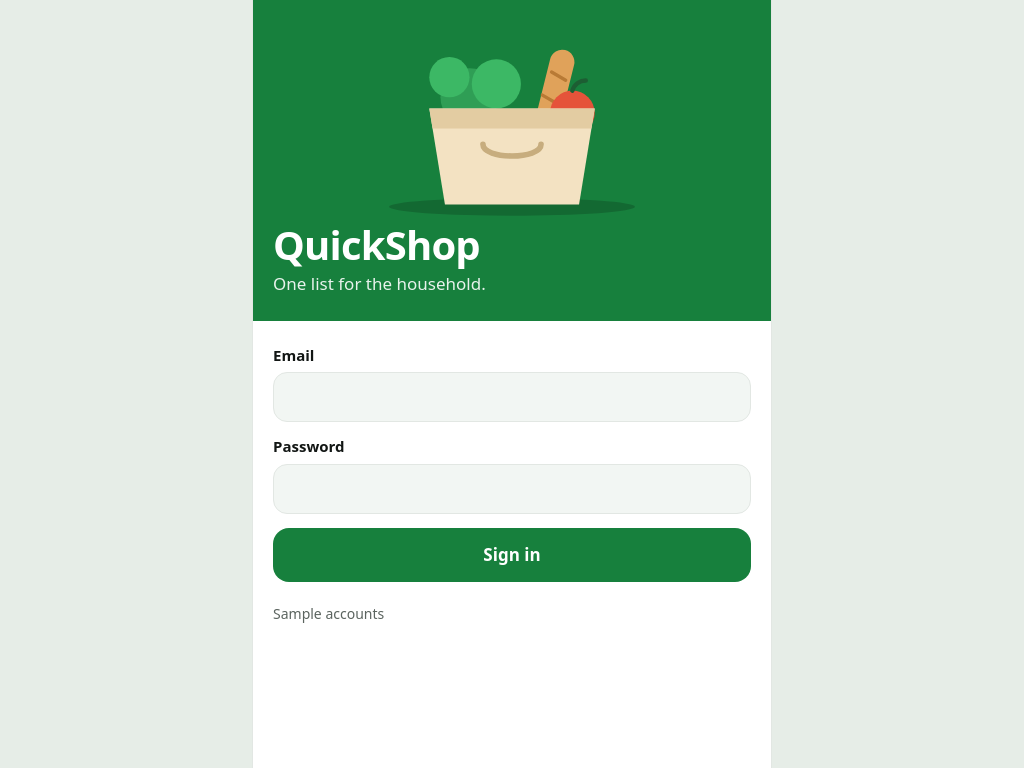
quick add › offers to create something new, and puts it on the list
Type "doug@example.com" into the field labelled "Email" at (512, 397), box [273,372,751,422]
Type "doug" into the password field labelled "Password" at (512, 489), box [273,464,751,514]
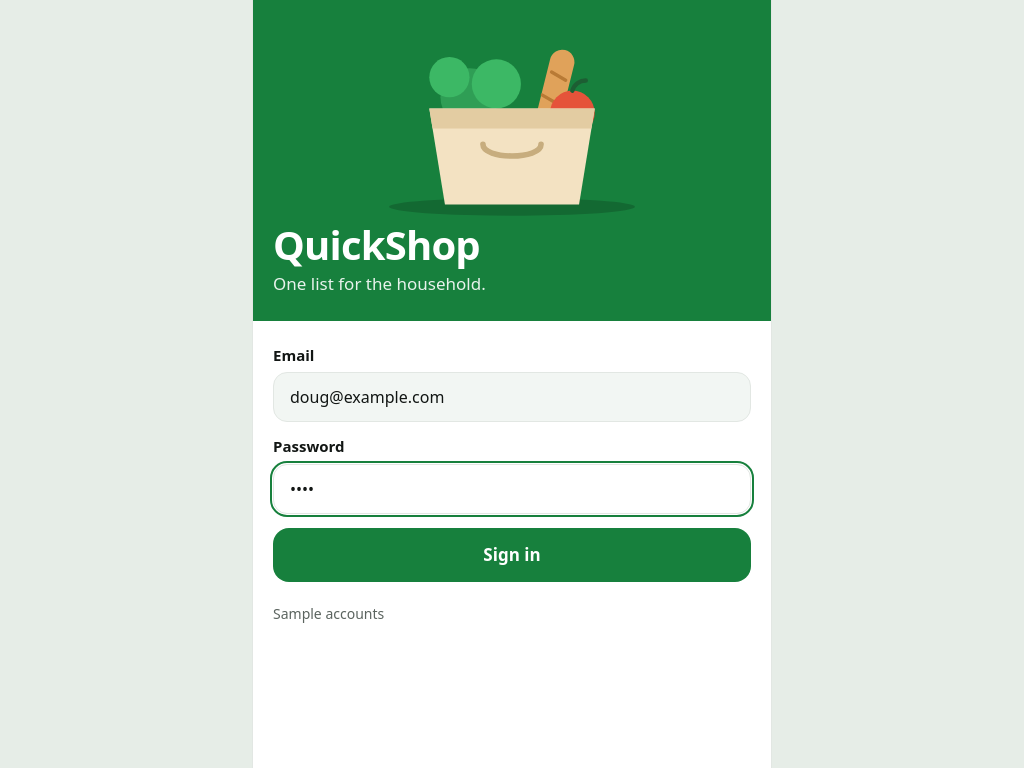
Click the button "Sign in" at (512, 555), box [273,528,751,582]
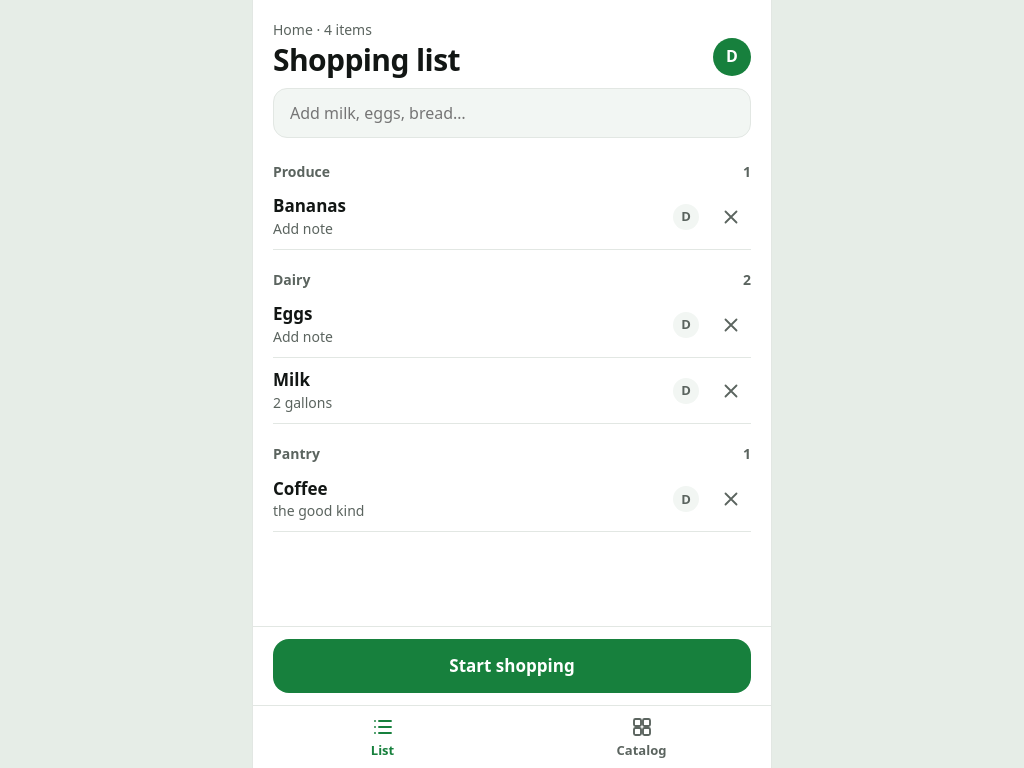
Now the heading "Shopping list" is shown, box [273,44,460,76]
Type "oat  milk" into the field named "Add to the list" at (512, 113), box [273,88,751,138]
Then press Enter
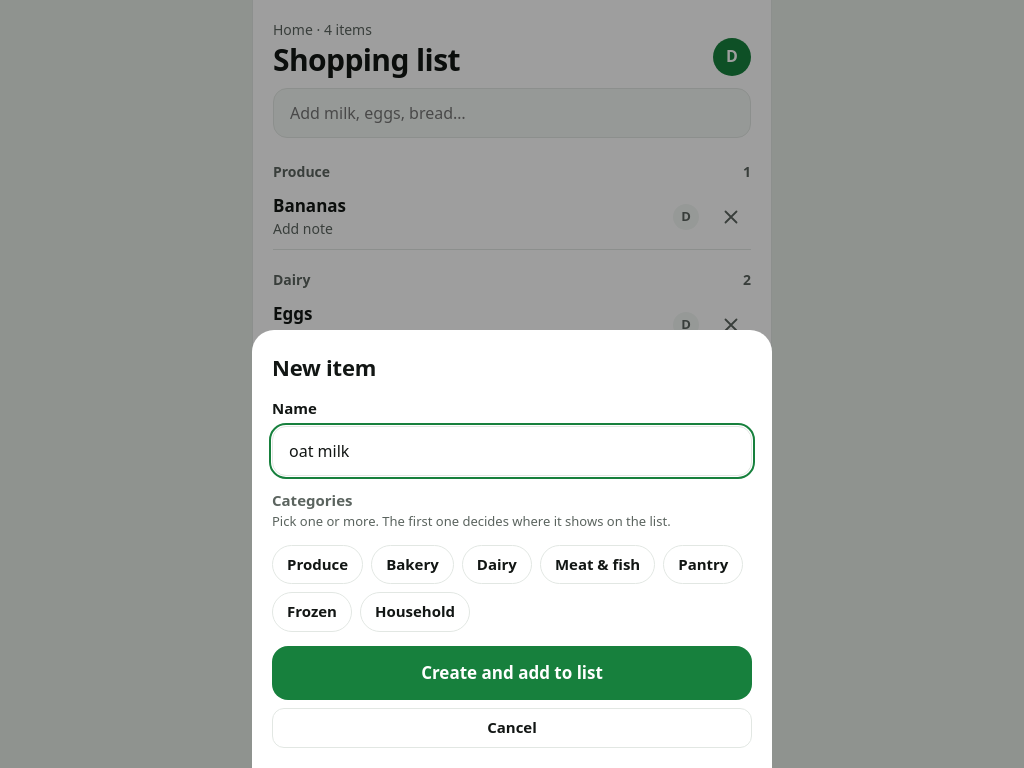
Now the field labelled "Name" holds "oat milk", box [272,426,752,476]
Click the button "Dairy" at (497, 564), box [462,544,532,584]
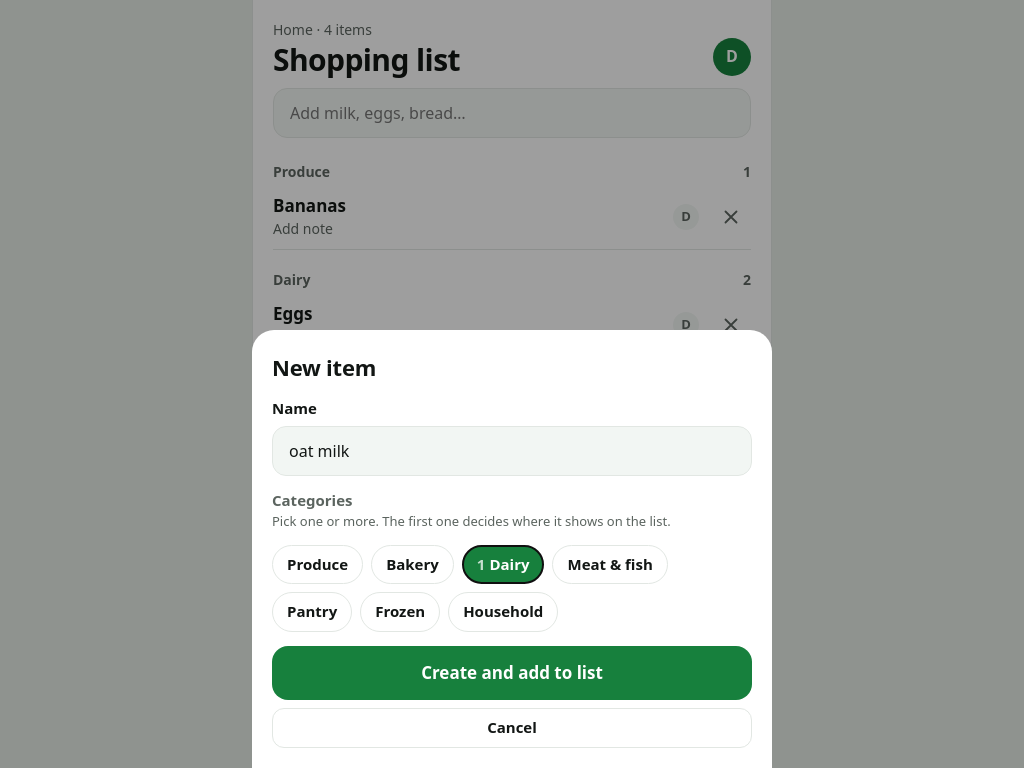
Click the button "Pantry" at (312, 612), box [272,592,352,632]
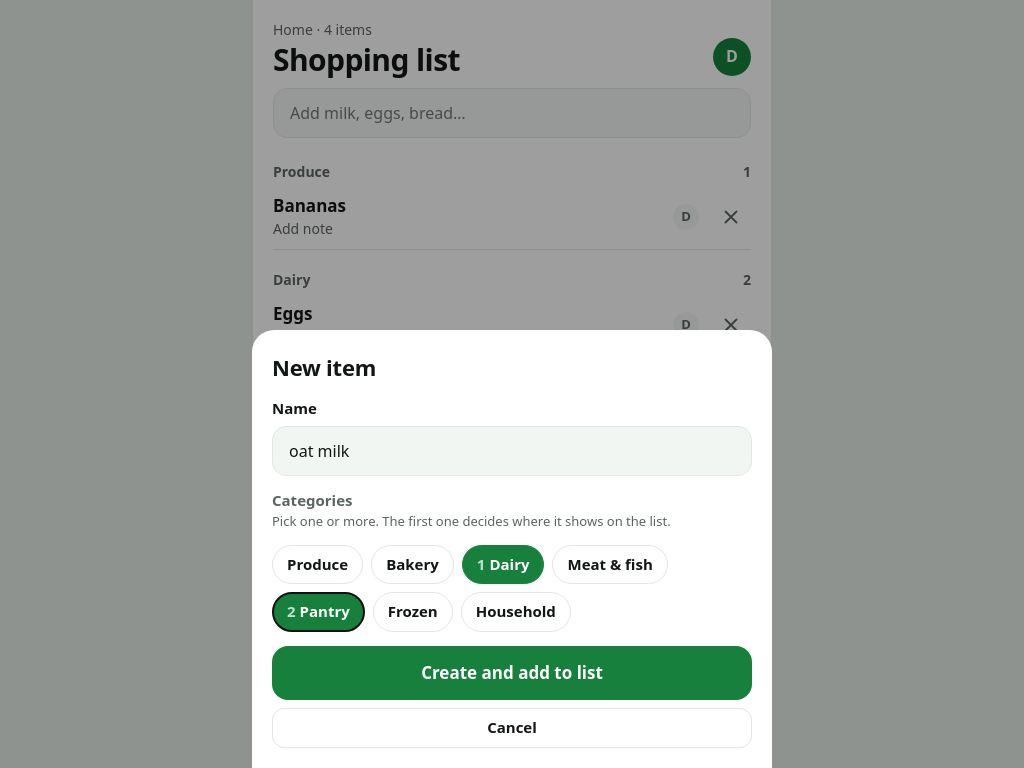
Now the button "1Dairy" is shown, box [462,544,544,584]
Now the button "2Pantry" is shown, box [272,592,365,632]
Click the button "Create and add to list" at (512, 673), box [272,646,752,700]
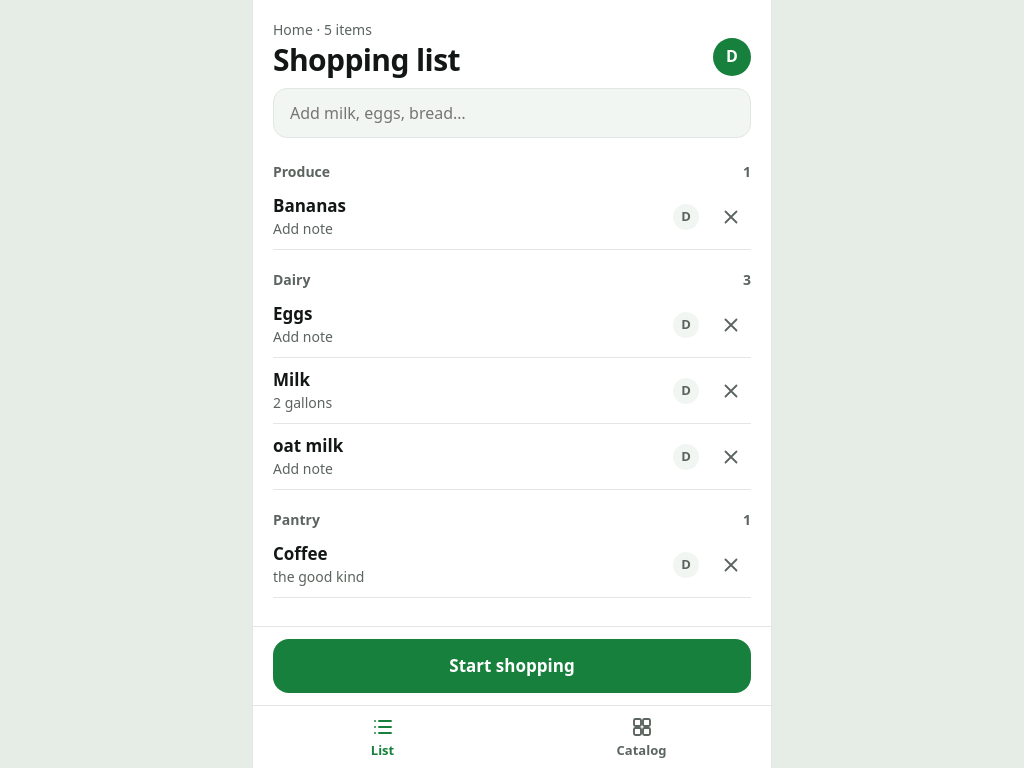
Now the dialog is gone
Now the text "oat milk" is shown, box [273,434,343,459]
